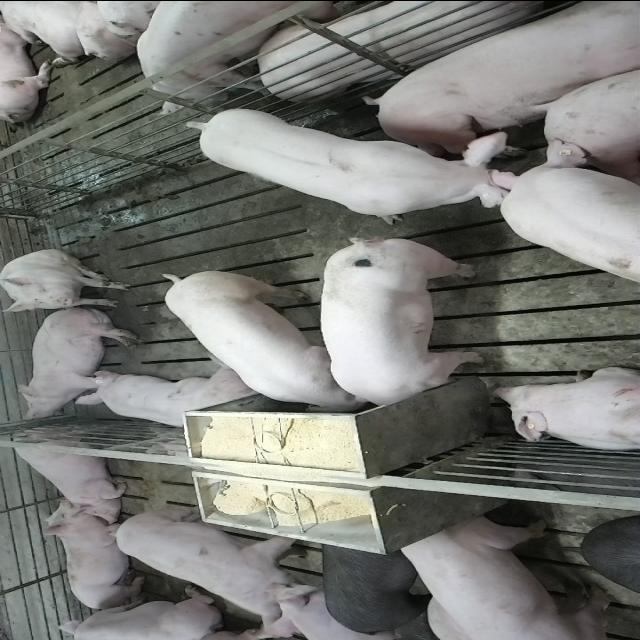Feeding: (160, 264, 367, 412), (318, 242, 484, 416)
Lateral_lying: (367, 4, 640, 169), (12, 304, 138, 420)
Sitting: (4, 426, 134, 514), (2, 248, 134, 312)
Standing: (189, 104, 535, 220), (393, 514, 617, 638), (106, 510, 316, 632), (130, 0, 350, 110), (495, 138, 640, 284), (319, 541, 434, 637)
Sternal_lying: (489, 365, 640, 453), (39, 502, 151, 612), (72, 366, 258, 432), (48, 588, 232, 637)
